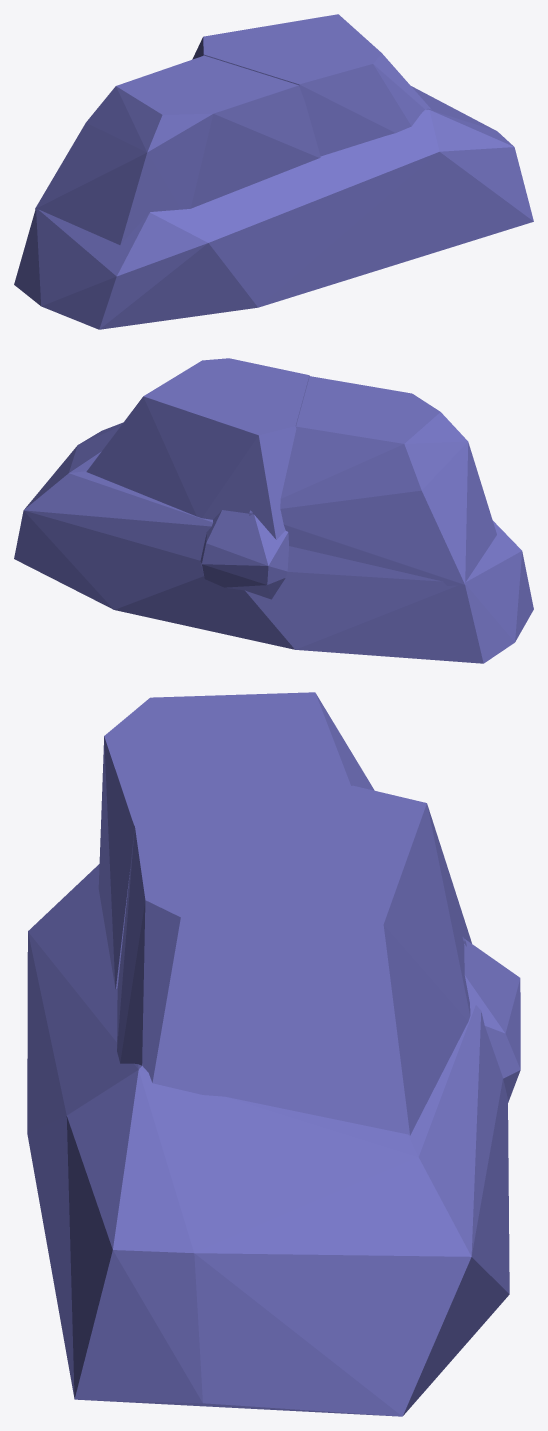
File: Cliff_Sediment_02_Taper_Collider_01.FBX
3 renders of one model, top to bottom at view 1: azimuth 30°, elevation 25°; view 2: azimuth 150°, elevation 25°; view 3: azimuth 270°, elevation 25°, orthographic. The views are drawn at different scales.
Parts seen in each view (by area): view 1: COLLIDER3, COLLIDER1, COLLIDER2; view 2: COLLIDER3, COLLIDER1, COLLIDER2, COLLIDER4; view 3: COLLIDER3, COLLIDER2, COLLIDER1, COLLIDER4.
Part boxes in pixels (x1,y1,x2,y2): COLLIDER3: [14, 86, 533, 329]; COLLIDER1: [35, 55, 320, 245]; COLLIDER2: [192, 14, 431, 156]; COLLIDER3: [14, 422, 533, 663]; COLLIDER1: [249, 376, 496, 585]; COLLIDER2: [86, 358, 309, 539]; COLLIDER4: [200, 510, 288, 599]; COLLIDER3: [27, 864, 509, 1416]; COLLIDER2: [117, 785, 471, 1135]; COLLIDER1: [98, 692, 466, 988]; COLLIDER4: [464, 939, 520, 1102].
Bounding box in the file's own units: 578 × 235 × 269.
